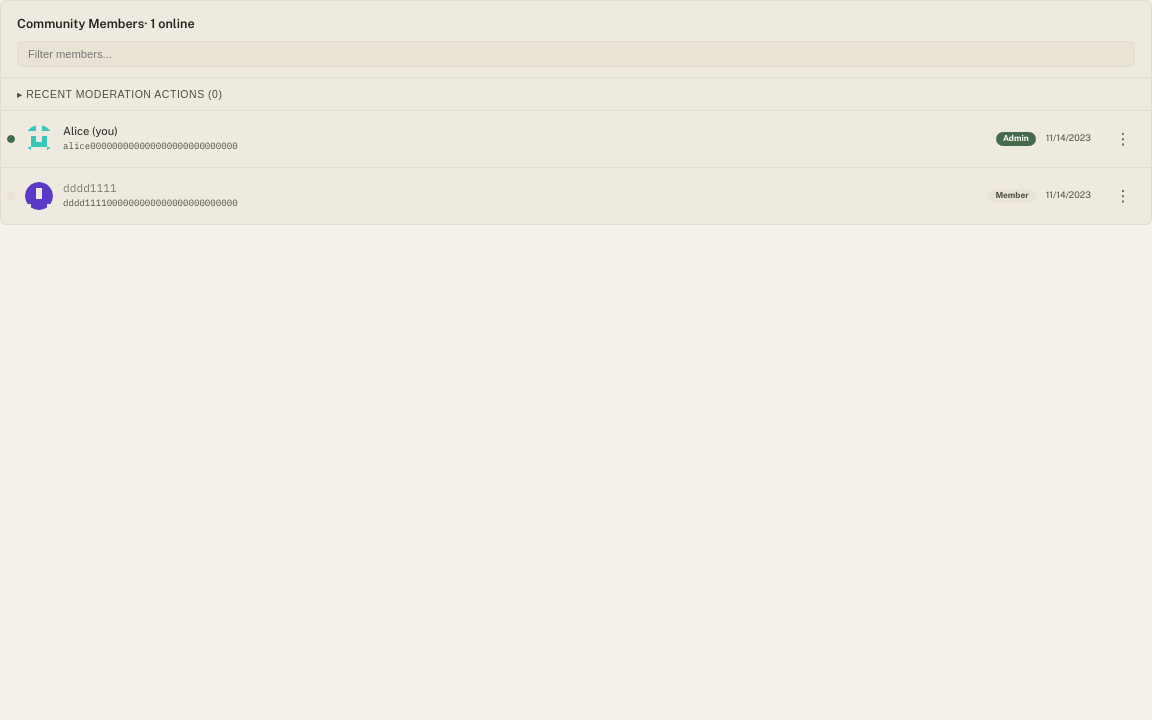
Test: moderation dialog resolves the target name through the ladder (ZEB-957) › falls through a blank published name to hex, never a blank confirmation
Click the button with class "kebab-btn" in the row of "dddd1111000000000000000000000000": click(1123, 196) [1101,174,1145,218]
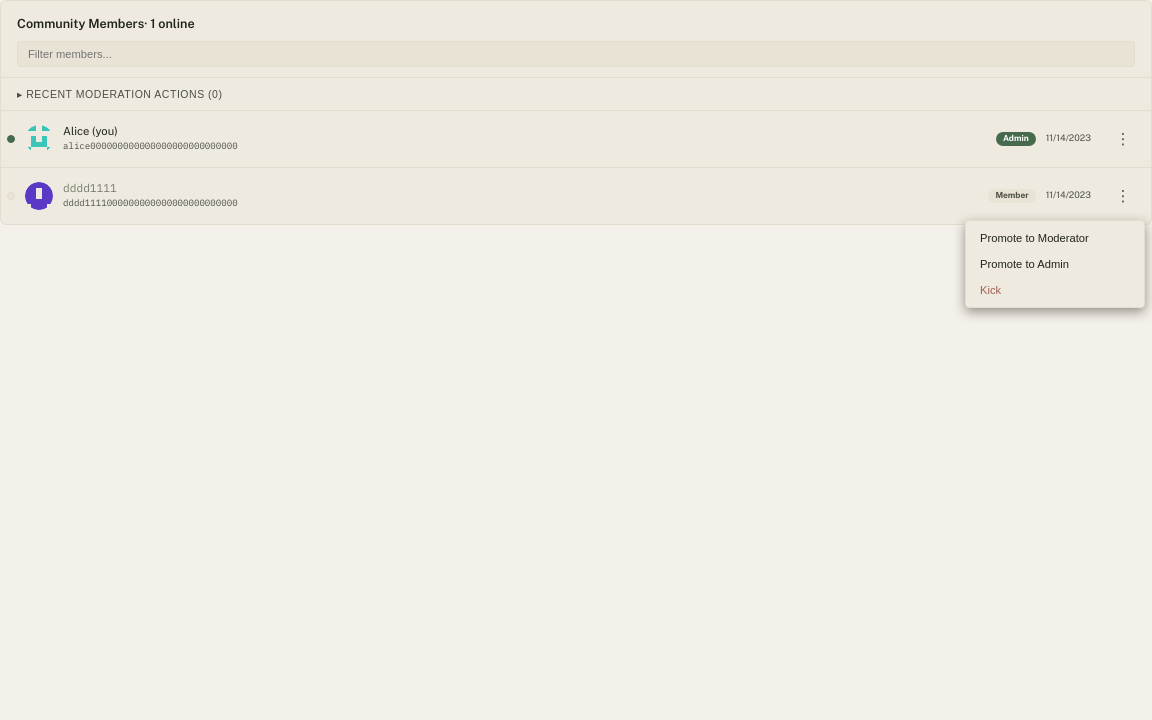
Click the menu item "Kick": click(1055, 290) [966,277,1144,303]
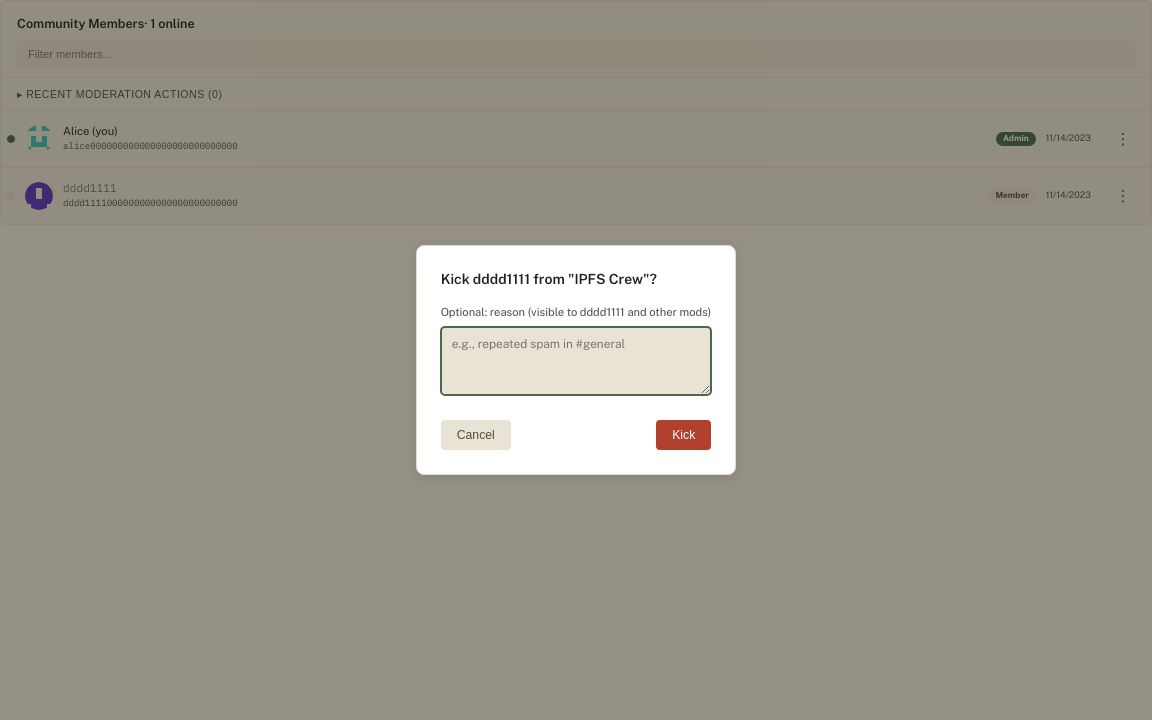
Expected: the heading "Kick dddd1111 from \"IPFS Crew\"?" is shown, [441,271,657,287]
